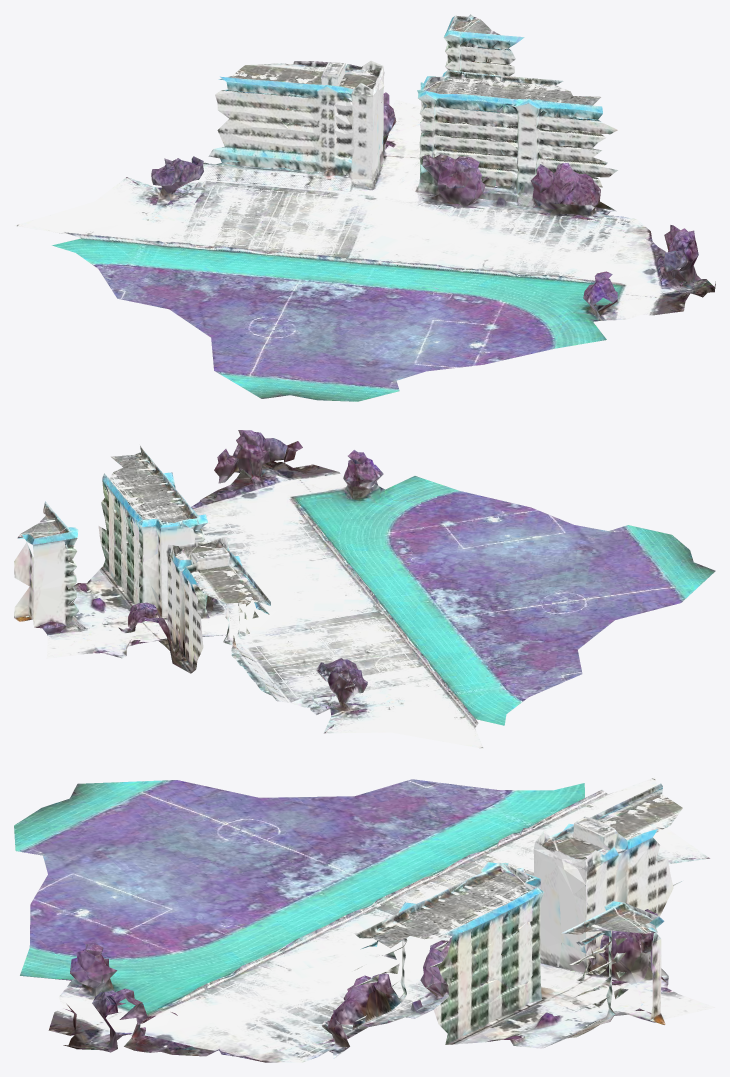
The model's file is Tile_+012_+018_L18_00001.glb.
The picture shows the model from 3 angles, top to bottom: view 1: azimuth 30°, elevation 25°; view 2: azimuth 150°, elevation 25°; view 3: azimuth 270°, elevation 25°; orthographic projection. The views are drawn at different scales.
Visible parts, largest first — view 1: rtc; view 2: rtc; view 3: rtc.
Boxes of the visible parts, left/top/right/bottom form: rtc: left=14, top=14, right=715, bottom=401; rtc: left=14, top=430, right=715, bottom=748; rtc: left=14, top=777, right=715, bottom=1062.
Bounding box in the file's own units: 116 × 25.26 × 122.
Materials: 1 (1 with a texture image).
